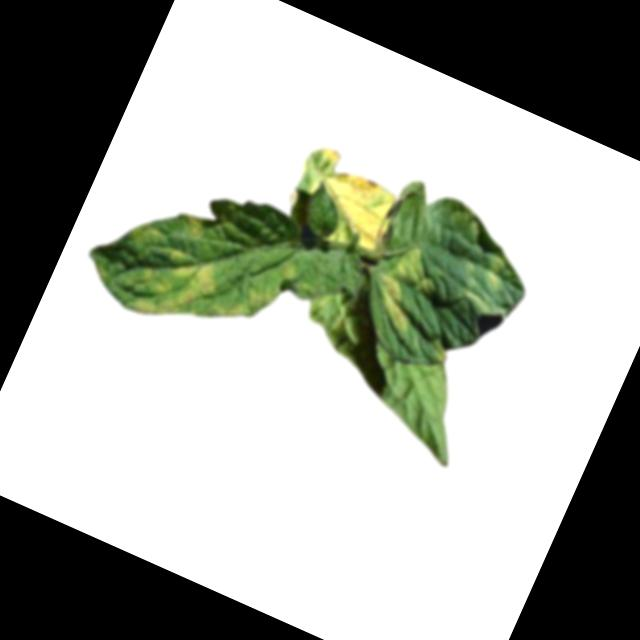Leaf_Mold: (103, 194, 238, 338), (280, 140, 411, 263), (360, 237, 446, 341)
